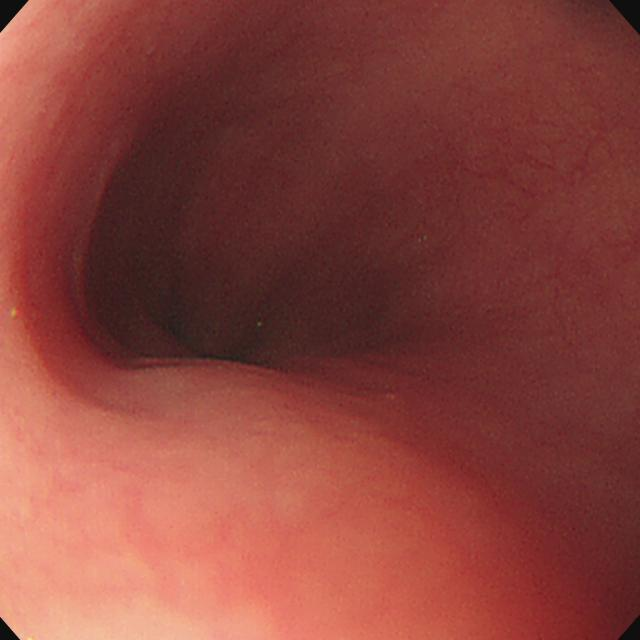E: (149, 297, 284, 385)
